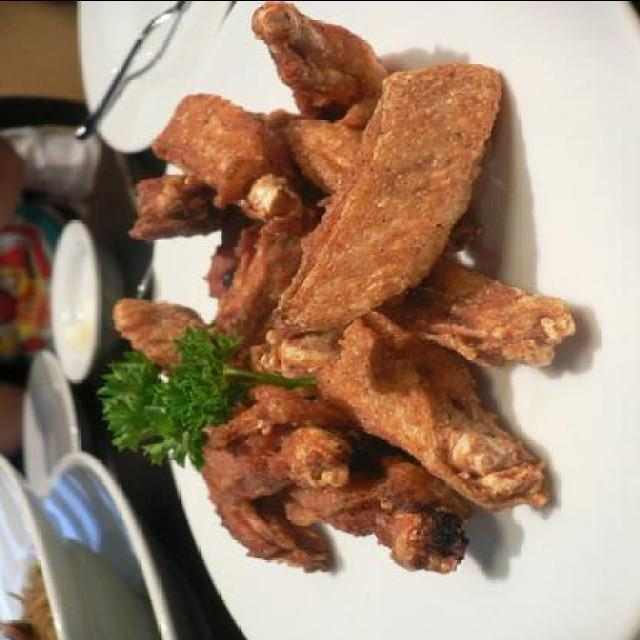Deep fried chicken wing: (133, 12, 570, 564)
